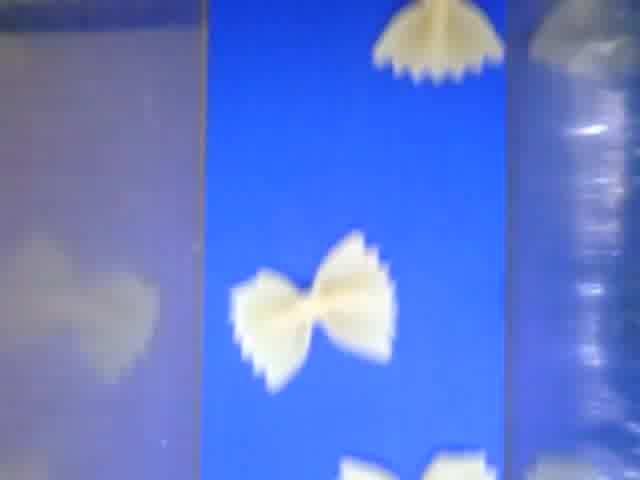farfalle: (232, 229, 396, 395), (370, 1, 506, 86), (339, 452, 495, 480)
